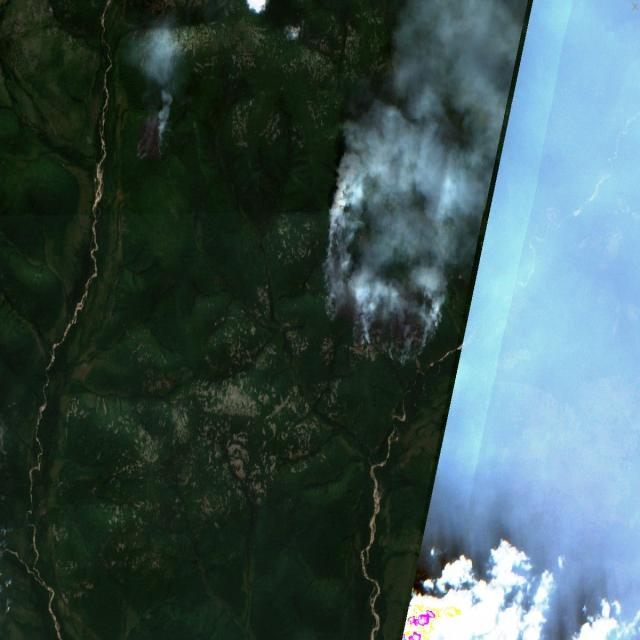fire: (321, 216, 442, 366), (128, 108, 173, 162)
